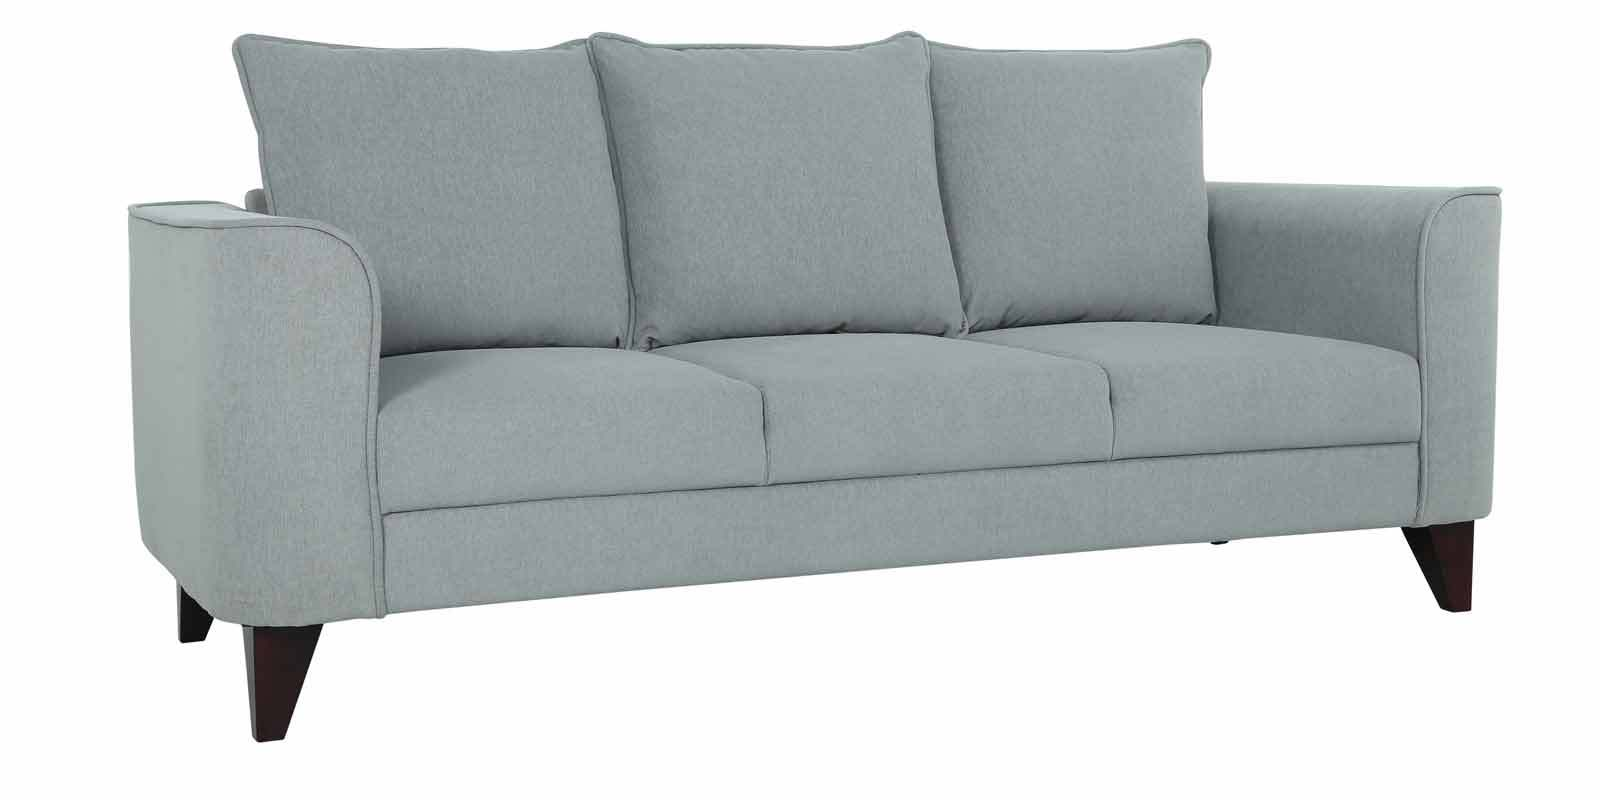Lara Three Seater Sofa in Ash Grey Colour by CasaCraft: (124, 29, 1503, 746)
